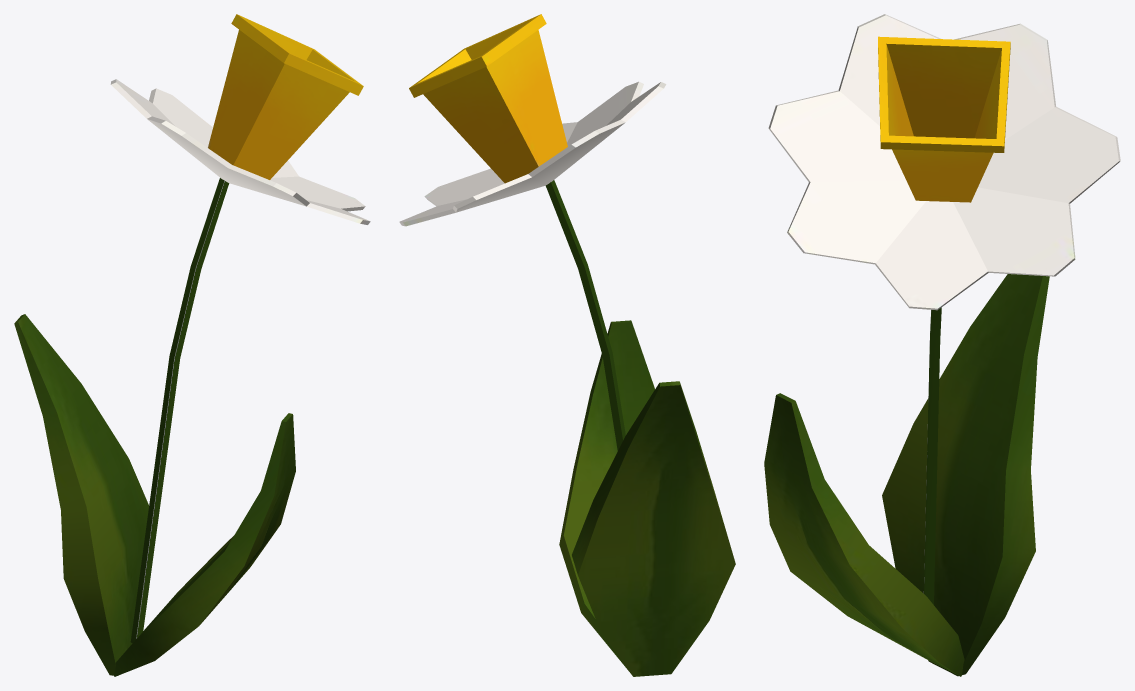
The model's file is flower_d.glb.
3 views of the same model, side by side, from view 1: azimuth 30°, elevation 25°; view 2: azimuth 150°, elevation 25°; view 3: azimuth 270°, elevation 25° (orthographic). The views are drawn at different scales.
Parts seen in each view (by area): view 1: narsis:sweep3, narsis:polySurface17, narsis:sweep2, narsis:sweep1; view 2: narsis:sweep3, narsis:polySurface17, narsis:sweep2, narsis:sweep1; view 3: narsis:polySurface17, narsis:sweep3, narsis:sweep2, narsis:sweep1.
Part boxes in pixels (<box>): narsis:sweep3: <box>14,314,148,675</box>; narsis:polySurface17: <box>110,14,370,224</box>; narsis:sweep2: <box>114,413,295,676</box>; narsis:sweep1: <box>130,178,229,643</box>; narsis:sweep3: <box>572,381,735,676</box>; narsis:polySurface17: <box>399,14,666,226</box>; narsis:sweep2: <box>559,320,654,673</box>; narsis:sweep1: <box>545,180,625,450</box>; narsis:polySurface17: <box>768,14,1120,310</box>; narsis:sweep3: <box>882,274,1049,676</box>; narsis:sweep2: <box>764,393,964,676</box>; narsis:sweep1: <box>923,307,941,604</box>.
Bounding box in the file's own units: 0.0724 × 0.1387 × 0.0629.
3 materials, 3 textured.
